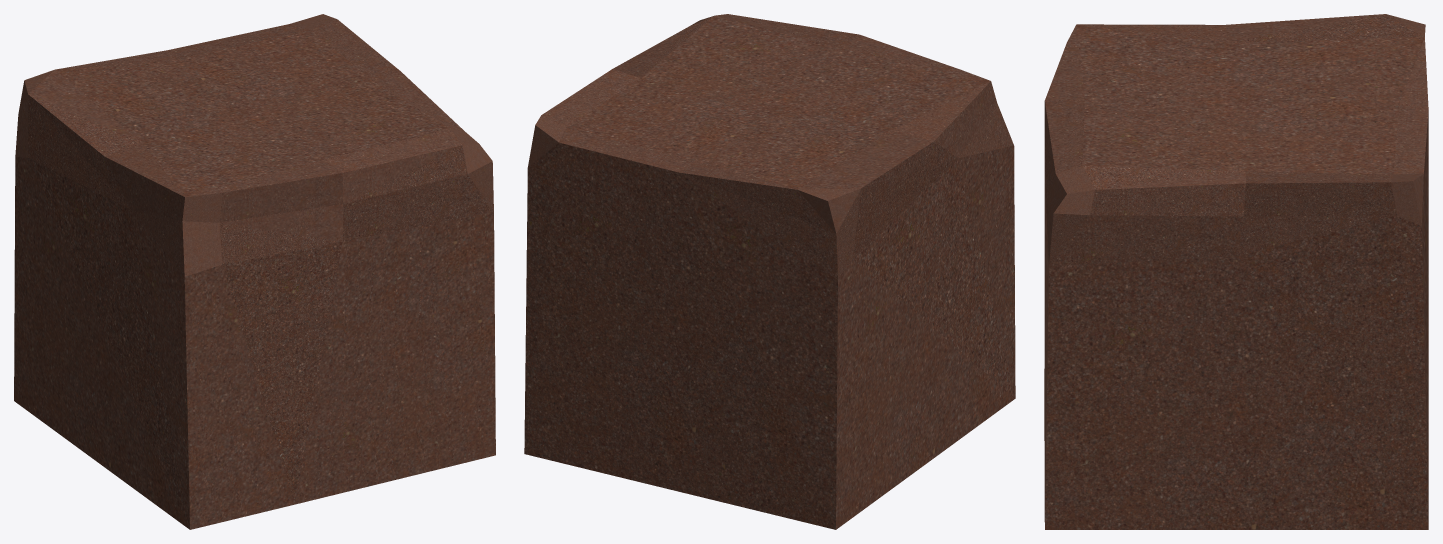
The model's file is Pillar.fbx.
3 views of the same model, side by side, from view 1: azimuth 30°, elevation 25°; view 2: azimuth 150°, elevation 25°; view 3: azimuth 270°, elevation 25° (orthographic). The views are drawn at different scales.
Parts seen in each view (by area): view 1: Pillar; view 2: Pillar; view 3: Pillar.
Boxes of the visible parts, left/top/right/bottom form: Pillar: left=14, top=14, right=495, bottom=529; Pillar: left=524, top=14, right=1015, bottom=529; Pillar: left=1044, top=14, right=1428, bottom=529.
Bounding box in the file's own units: 2.04 × 2.02 × 2.
